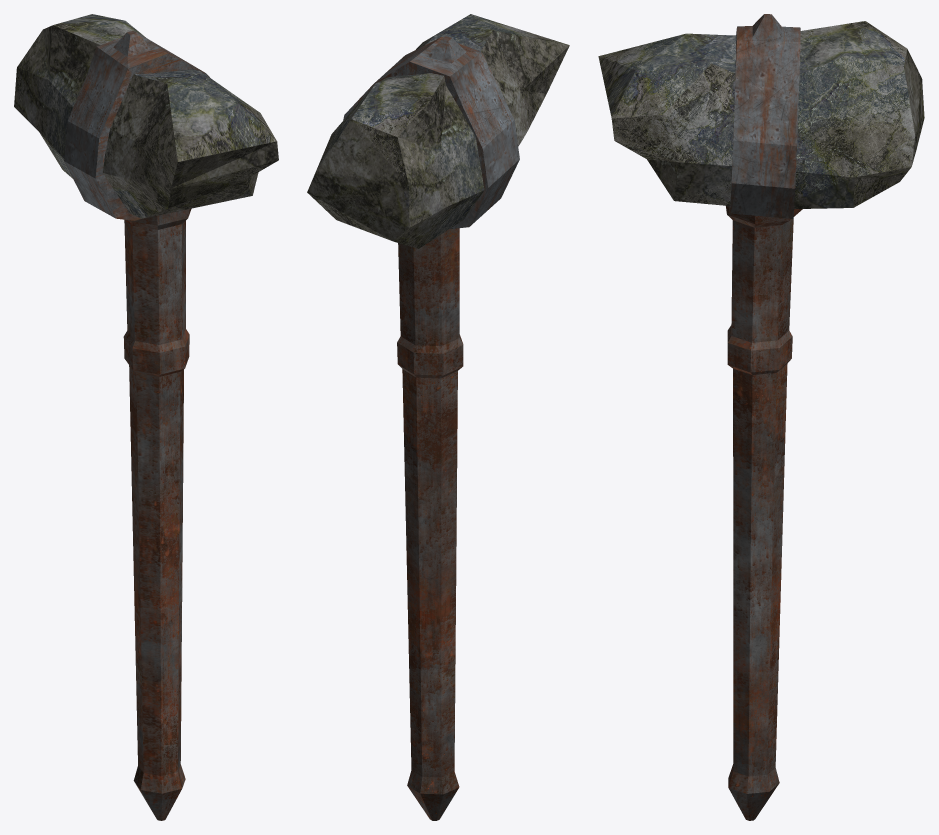
The model's file is hammer.obj.
3 renders of one model, left to right at view 1: azimuth 30°, elevation 25°; view 2: azimuth 150°, elevation 25°; view 3: azimuth 270°, elevation 25°, orthographic.
Visible parts, largest first — view 1: Cylinder, Cube, Cube.001; view 2: Cylinder, Cube, Cube.001; view 3: Cube, Cylinder, Cube.001.
Boxes of the visible parts, <box> form: Cylinder: <box>123,208,191,820</box>; Cube: <box>14,14,278,218</box>; Cube.001: <box>64,31,209,220</box>; Cylinder: <box>397,228,463,820</box>; Cube: <box>307,14,569,248</box>; Cube.001: <box>343,36,519,228</box>; Cube: <box>598,21,924,209</box>; Cylinder: <box>726,205,802,820</box>; Cube.001: <box>729,14,800,218</box>.
Bounding box in the file's own units: 1.17 × 5.86 × 2.19.
3 materials, 3 textured.
